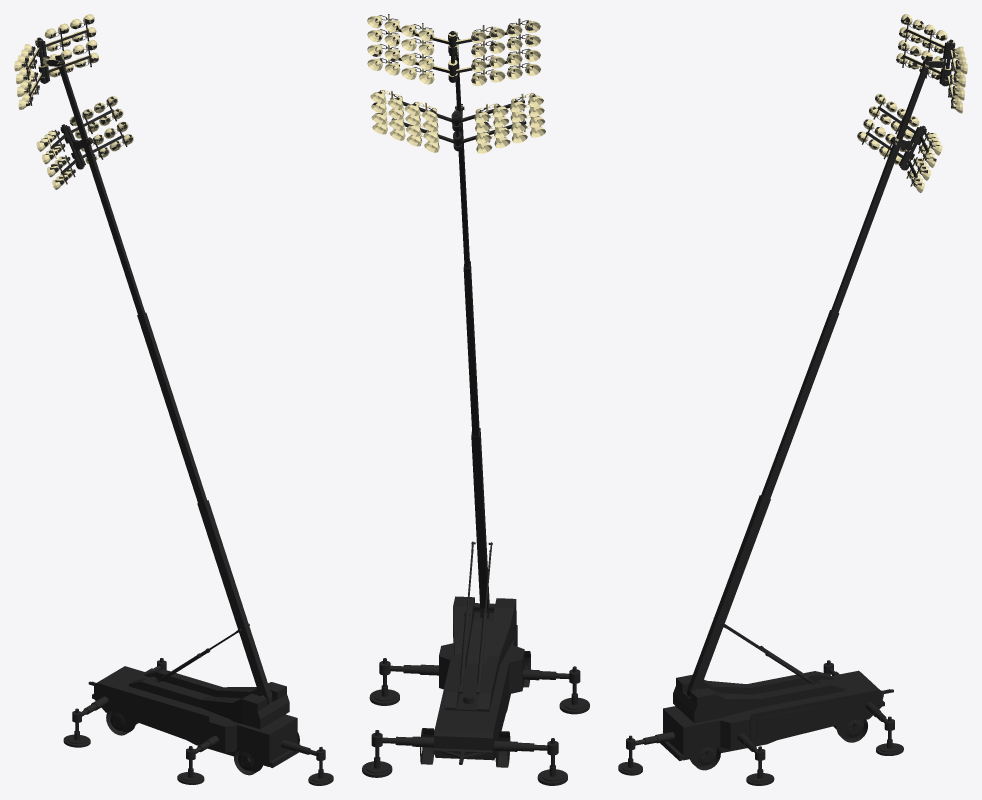
Rendered from light_tower_6.obj.
The picture shows the model from 3 angles, left to right: view 1: azimuth 30°, elevation 25°; view 2: azimuth 150°, elevation 25°; view 3: azimuth 270°, elevation 25°; orthographic projection. The views are drawn at different scales.
Parts seen in each view (by area): view 1: light_tower.006; view 2: light_tower.006; view 3: light_tower.006.
Boxes of the visible parts, x1,y1,x2,y2 form: light_tower.006: (14, 14, 333, 785); light_tower.006: (362, 14, 589, 785); light_tower.006: (618, 14, 967, 785).
Size of the model in its own units: 1.83 by 5.53 by 2.6.
1 material, 1 textured.
